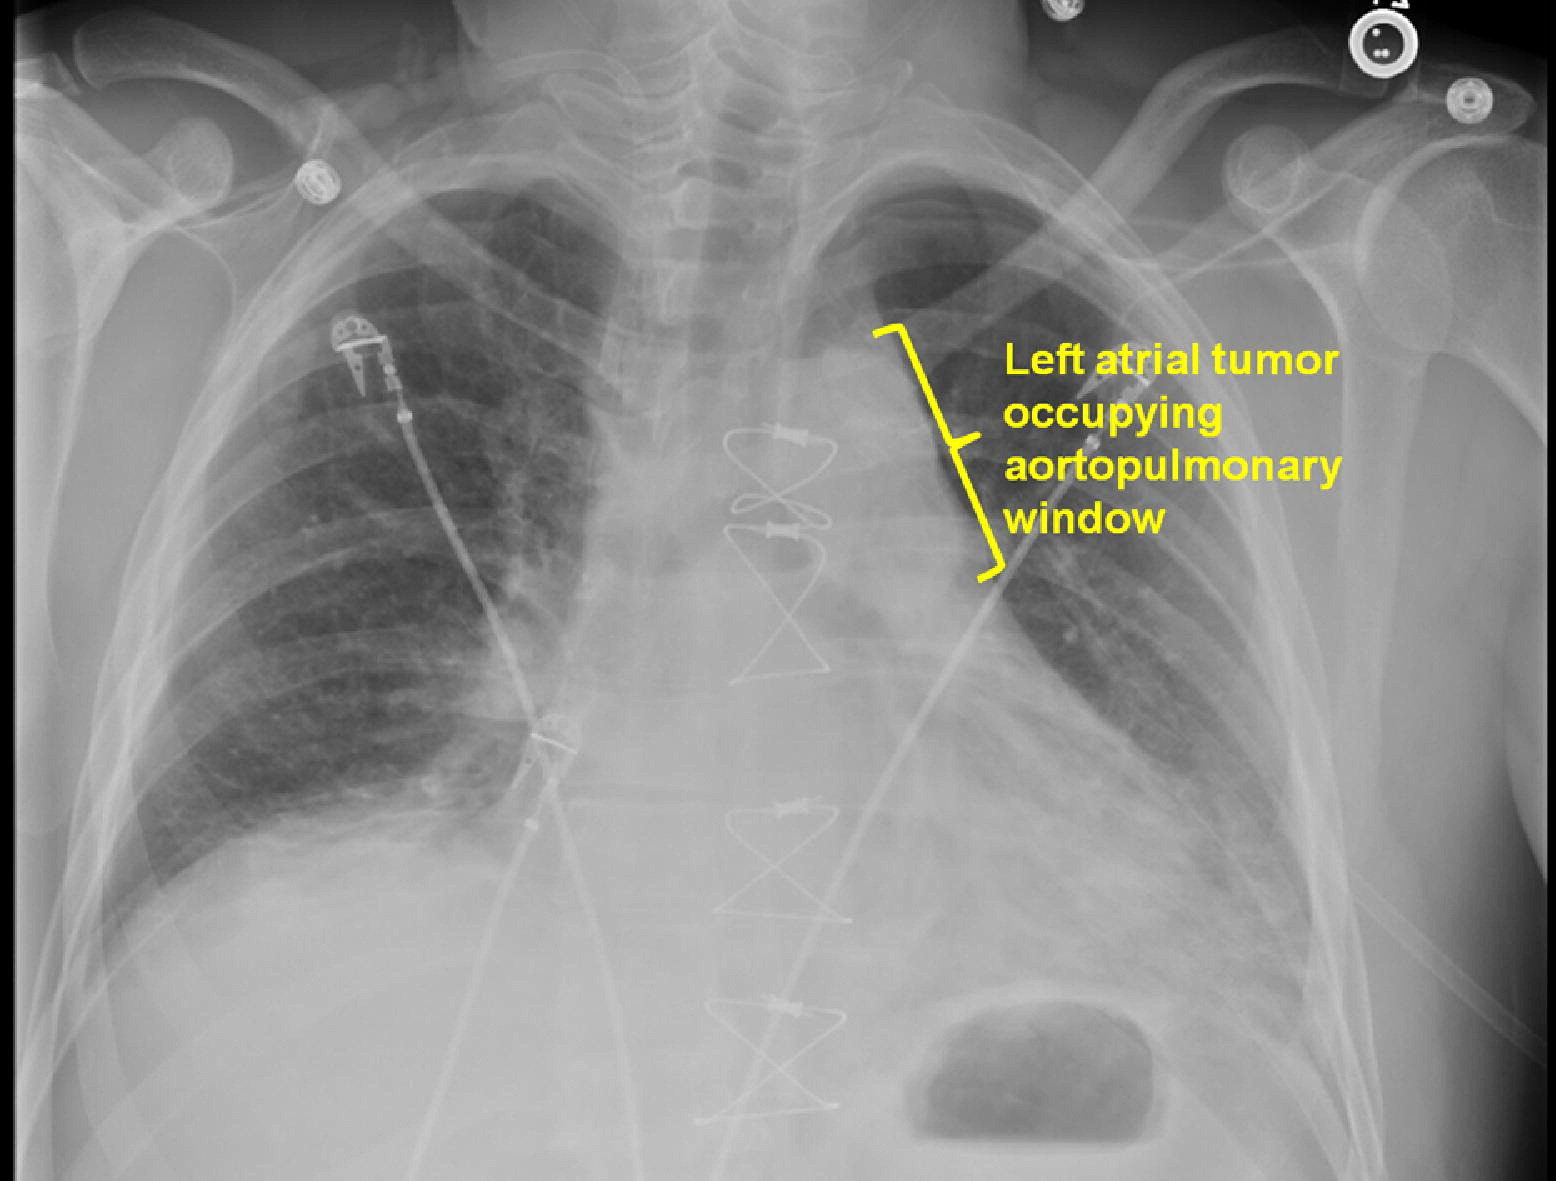telestration: (1003, 337, 1365, 540), (864, 320, 1008, 584)
